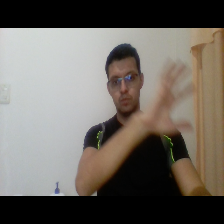left: (137, 59, 201, 137)
